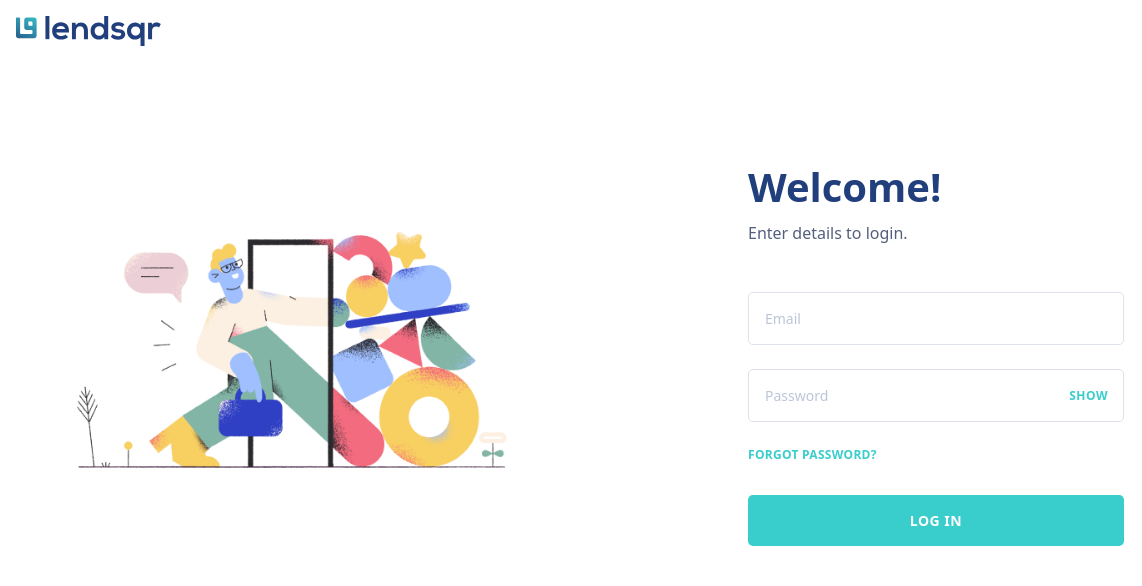
Scenario: Login page › shows validation errors and does not navigate when submitted empty
The width and height of the screenshot is (1142, 586).
Click the button "LOG IN": point(936, 520) [748,494,1124,546]
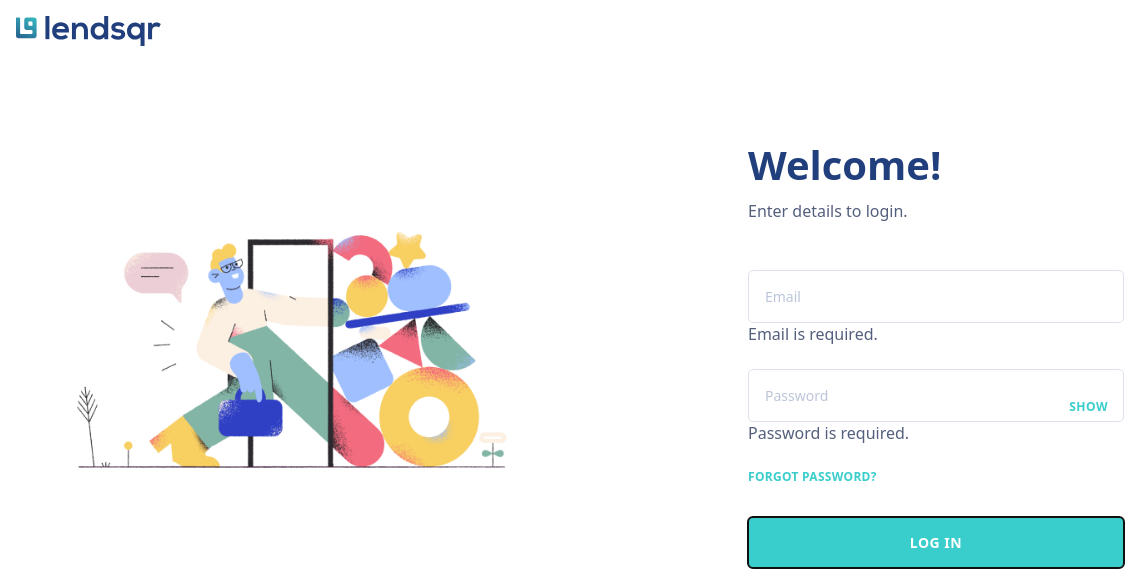
Expected: the text "Email is required." is shown, [748,322,878,344]
Expected: the text "Password is required." is shown, [748,422,909,444]
